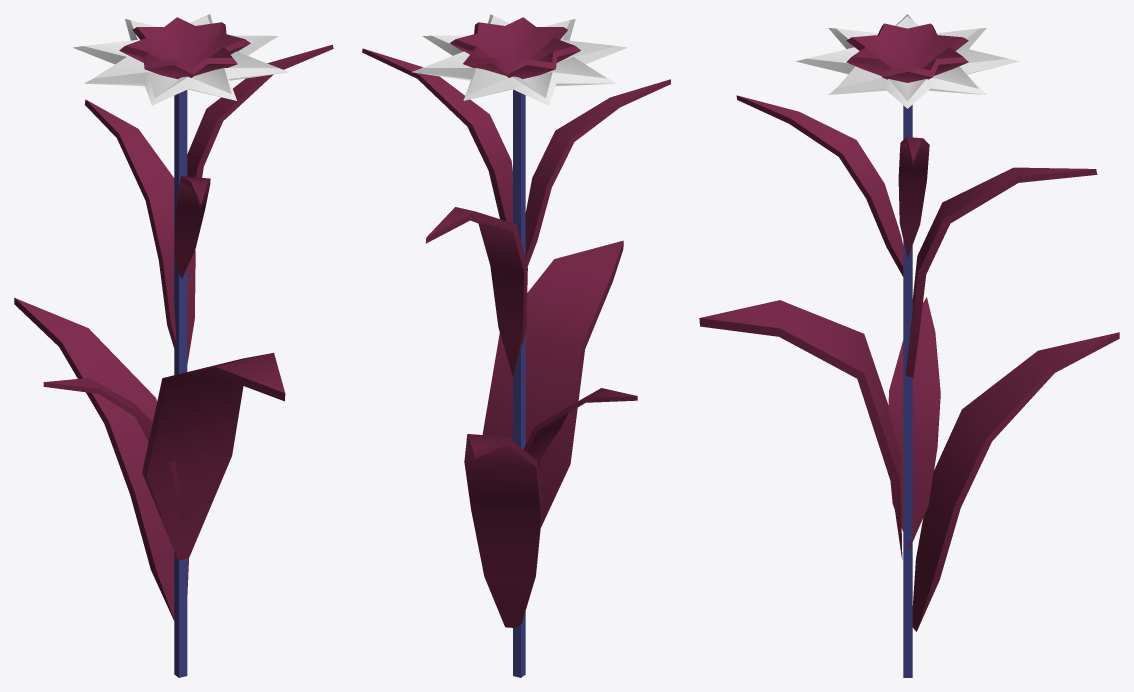
Rendered from flower01_white.fbx.
3 views of the same model, side by side, from view 1: azimuth 30°, elevation 25°; view 2: azimuth 150°, elevation 25°; view 3: azimuth 270°, elevation 25° (orthographic).
Parts seen in each view (by area): view 1: flower01_white; view 2: flower01_white; view 3: flower01_white.
Boxes of the visible parts, <box> form: flower01_white: <box>14,14,333,677</box>; flower01_white: <box>362,14,670,677</box>; flower01_white: <box>699,14,1119,677</box>.
Bounding box in the file's own units: 3.48 × 7.43 × 4.48.
